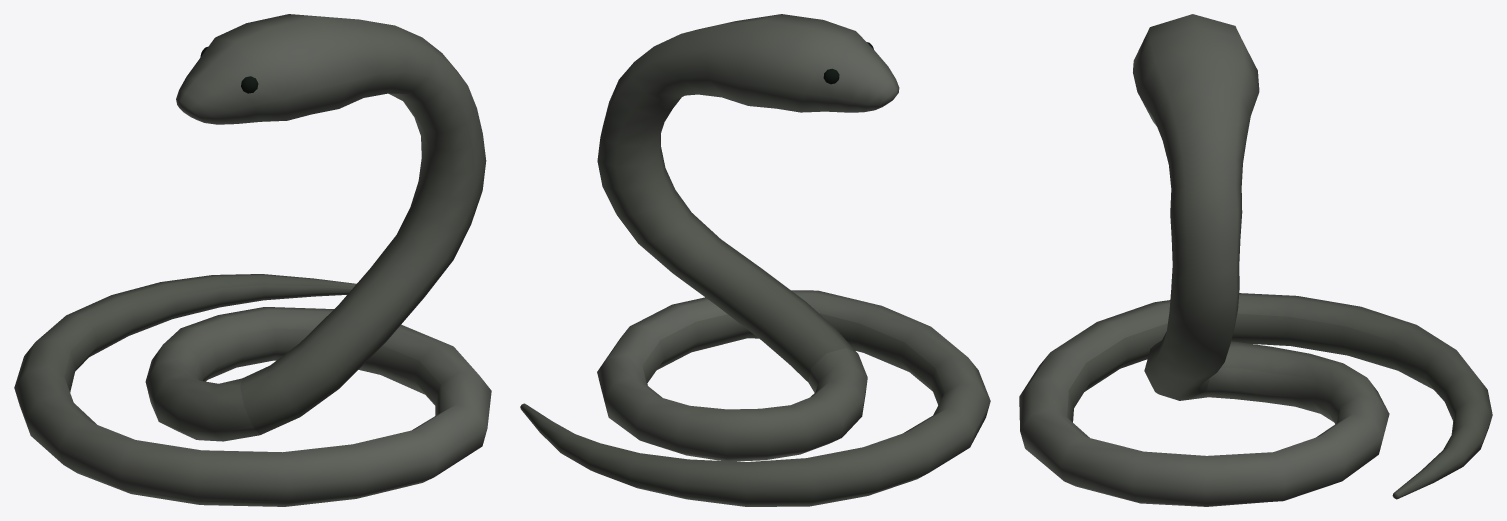
The model's file is snake.glb.
The picture shows the model from 3 angles, left to right: view 1: azimuth 30°, elevation 25°; view 2: azimuth 150°, elevation 25°; view 3: azimuth 270°, elevation 25°; orthographic projection. The views are drawn at different scales.
Parts seen in each view (by area): view 1: Vert.003; view 2: Vert.003; view 3: Vert.003.
Boxes of the visible parts, left/top/right/bottom form: Vert.003: left=14, top=14, right=491, bottom=506; Vert.003: left=520, top=14, right=990, bottom=506; Vert.003: left=1019, top=14, right=1492, bottom=506.
Size of the model in its own units: 0.594 by 0.5681 by 0.6126.
1 material, 1 textured.
